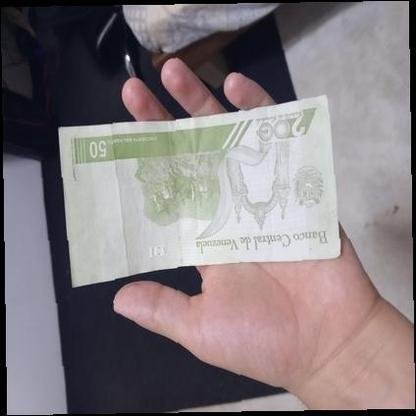fifty-back-vef: (58, 93, 342, 288)
